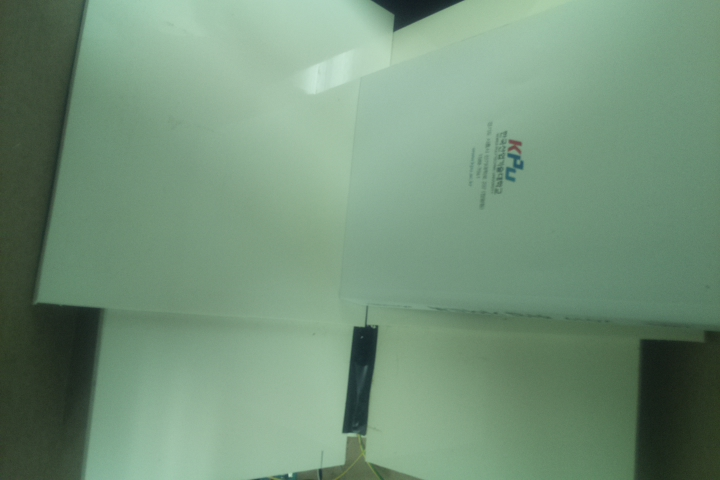book: (337, 1, 718, 334)
